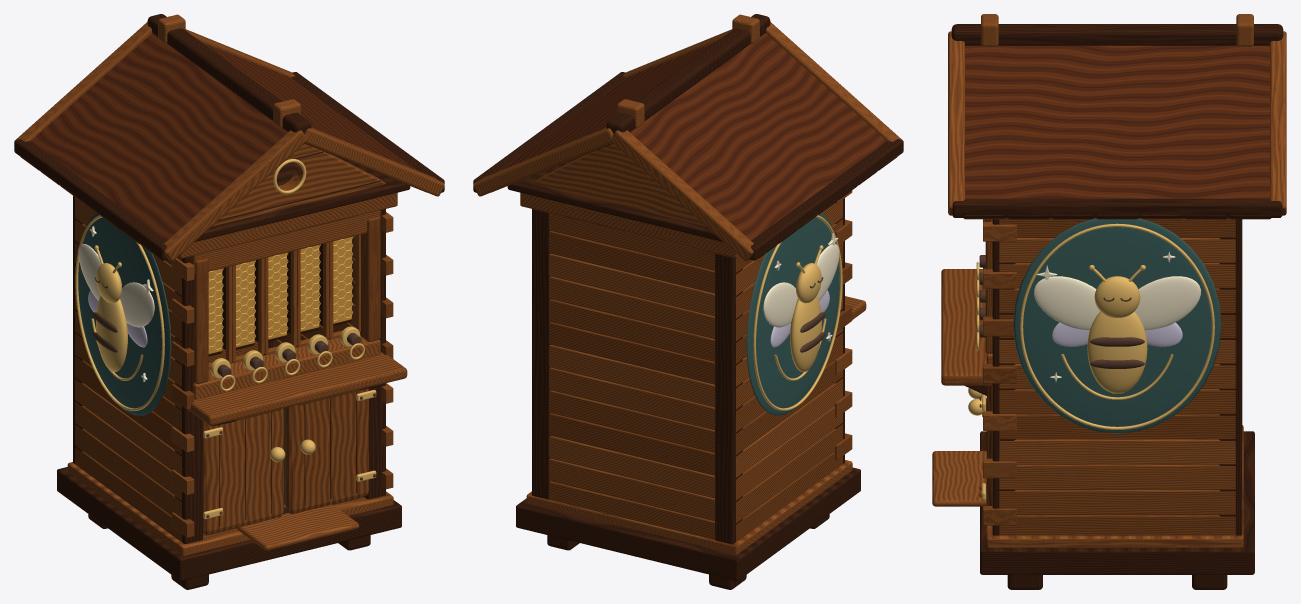
File: beehive-dreamy-DNKq_JLW.glb
3 views of the same model, side by side, from view 1: azimuth 30°, elevation 25°; view 2: azimuth 150°, elevation 25°; view 3: azimuth 270°, elevation 25° (orthographic). The views are drawn at different scales.
Parts seen in each view (by area): view 1: Hive_Cedro miele 3.001, Hive_Cedro tostato • scandole, Hive_Noce • bordi e incastri.001, Hive_Cedro miele 4.001, Hive_Cedro miele 2.001, Hive_Cedro miele 1.001, Hive_Smalto salvia profondo, Hive_Ottone satinato / miele, Hive_Cera ambrata, Hive_Miele luminoso, Hive_Ali • avorio perlato, Hive_Ape • cacao; view 2: Hive_Cedro miele 3.001, Hive_Noce • bordi e incastri.001, Hive_Cedro tostato • scandole, Hive_Cedro miele 2.001, Hive_Cedro miele 4.001, Hive_Cedro miele 1.001, Hive_Smalto salvia profondo, Hive_Ottone satinato / miele, Hive_Ali • avorio perlato; view 3: Hive_Cedro tostato • scandole, Hive_Noce • bordi e incastri.001, Hive_Cedro miele 3.001, Hive_Smalto salvia profondo, Hive_Cedro miele 4.001, Hive_Cedro miele 1.001, Hive_Cedro miele 2.001, Hive_Ottone satinato / miele, Hive_Ali • avorio perlato, Hive_Ape • cacao, Hive_Ali • madreperla lavanda.
Part boxes in pixels (box(x1,y1,x2,y2)): Hive_Cedro miele 3.001: box(15, 22, 444, 555); Hive_Cedro tostato • scandole: box(19, 33, 426, 243); Hive_Noce • bordi e incastri.001: box(14, 14, 444, 589); Hive_Cedro miele 4.001: box(75, 14, 393, 550); Hive_Cedro miele 2.001: box(75, 192, 397, 537); Hive_Cedro miele 1.001: box(59, 183, 393, 542); Hive_Smalto salvia profondo: box(78, 212, 171, 415); Hive_Ottone satinato / miele: box(75, 159, 376, 519); Hive_Cera ambrata: box(208, 237, 351, 353); Hive_Miele luminoso: box(208, 236, 353, 350); Hive_Ali • avorio perlato: box(78, 226, 154, 381); Hive_Ape • cacao: box(92, 277, 376, 517); Hive_Cedro miele 3.001: box(473, 22, 902, 554); Hive_Noce • bordi e incastri.001: box(473, 14, 903, 589); Hive_Cedro tostato • scandole: box(491, 33, 887, 258); Hive_Cedro miele 2.001: box(520, 192, 852, 539); Hive_Cedro miele 4.001: box(549, 14, 852, 498); Hive_Cedro miele 1.001: box(549, 154, 898, 542); Hive_Smalto salvia profondo: box(746, 212, 839, 415); Hive_Ottone satinato / miele: box(753, 215, 842, 410); Hive_Ali • avorio perlato: box(763, 233, 839, 341); Hive_Cedro tostato • scandole: box(965, 45, 1271, 219); Hive_Noce • bordi e incastri.001: box(951, 24, 1283, 589); Hive_Cedro miele 3.001: box(941, 31, 1286, 547); Hive_Smalto salvia profondo: box(1013, 218, 1221, 433); Hive_Cedro miele 4.001: box(932, 14, 1253, 506); Hive_Cedro miele 1.001: box(963, 215, 1235, 535); Hive_Cedro miele 2.001: box(983, 218, 1235, 525); Hive_Ottone satinato / miele: box(968, 223, 1214, 499); Hive_Ali • avorio perlato: box(1034, 251, 1200, 381); Hive_Ape • cacao: box(979, 255, 1144, 497); Hive_Ali • madreperla lavanda: box(1052, 322, 1182, 346).
Size of the model in its own units: 2.24 by 3.56 by 2.19.
Materials: 14 (6 with a texture image).
